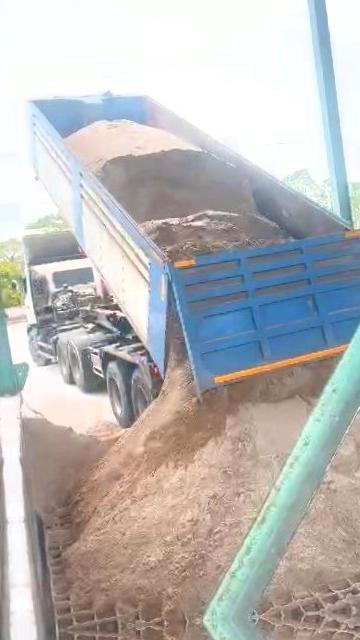sand: (66, 339, 335, 622), (67, 120, 287, 258), (269, 377, 360, 600), (24, 416, 112, 514)
